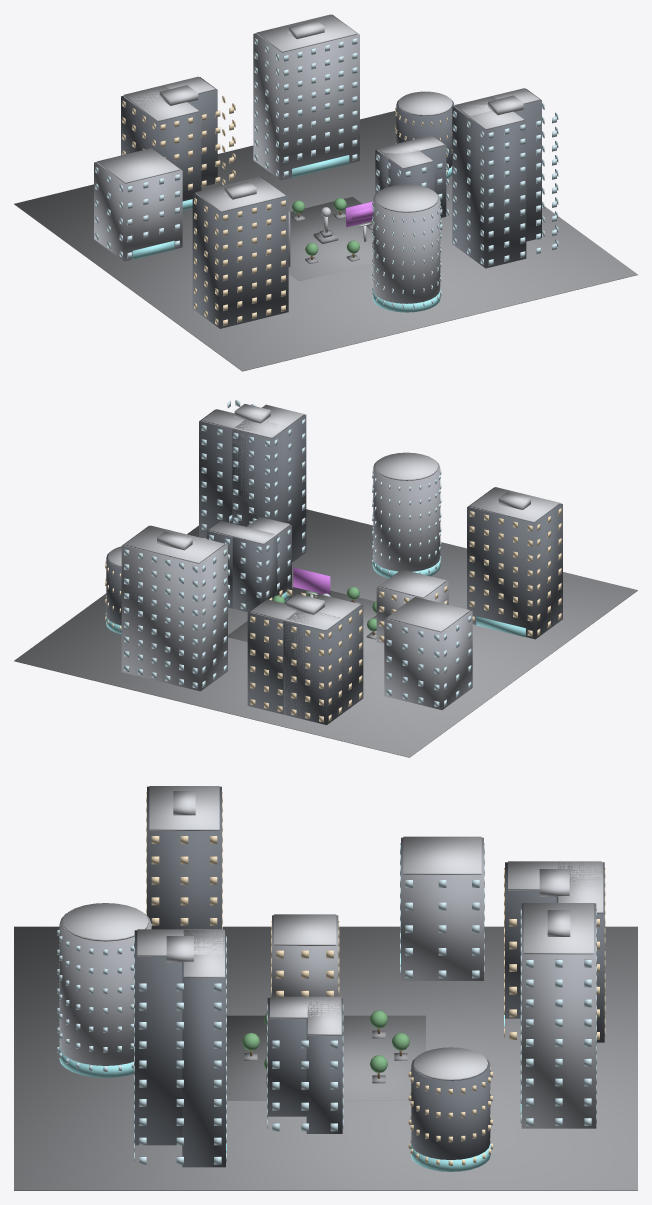
File: city_cluster.gltf
The picture shows the model from 3 angles, top to bottom: view 1: azimuth 30°, elevation 25°; view 2: azimuth 150°, elevation 25°; view 3: azimuth 270°, elevation 25°; orthographic projection. The views are drawn at different scales.
Visible parts, largest first — view 1: Plaza, BodyDark, BodyLight, Trim, WindowsCool, WindowsWarm, Shopfronts, TreeLeaves, HoloSign; view 2: BodyDark, Plaza, BodyLight, Trim, WindowsCool, WindowsWarm, Shopfronts, HoloSign; view 3: Plaza, BodyDark, BodyLight, Trim, WindowsCool, WindowsWarm, Shopfronts, TreeLeaves.
Boxes of the visible parts, x1,y1,x2,y2 form: Plaza: [14, 111, 637, 371]; BodyDark: [121, 77, 541, 328]; BodyLight: [94, 14, 440, 303]; Trim: [96, 14, 539, 241]; WindowsCool: [95, 38, 558, 308]; WindowsWarm: [122, 96, 452, 325]; Shopfronts: [132, 155, 452, 312]; TreeLeaves: [292, 198, 373, 255]; HoloSign: [346, 201, 373, 227]; BodyDark: [106, 409, 562, 724]; Plaza: [14, 509, 637, 757]; BodyLight: [121, 460, 472, 709]; Trim: [108, 404, 559, 632]; WindowsCool: [124, 400, 471, 707]; WindowsWarm: [105, 508, 561, 722]; Shopfronts: [106, 557, 525, 637]; HoloSign: [293, 567, 330, 595]; Plaza: [14, 926, 637, 1190]; BodyDark: [134, 786, 604, 1167]; BodyLight: [59, 837, 596, 1128]; Trim: [62, 786, 603, 1080]; WindowsCool: [57, 843, 596, 1164]; WindowsWarm: [146, 792, 605, 1165]; Shopfronts: [59, 953, 521, 1171]; TreeLeaves: [242, 1010, 409, 1072].
Size of the model in its own units: 150 by 52.75 by 150.
